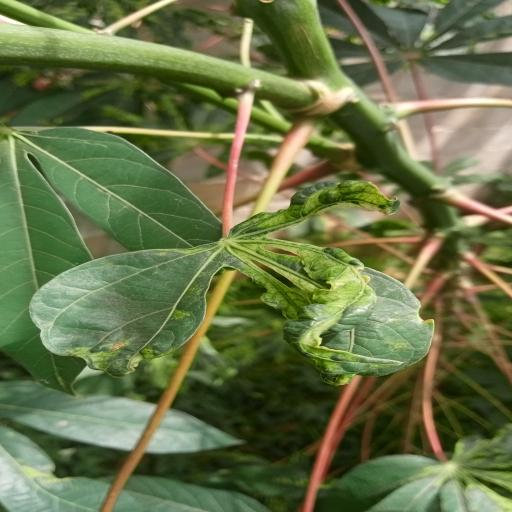Cassava_Mosaic: (27, 174, 448, 390)
